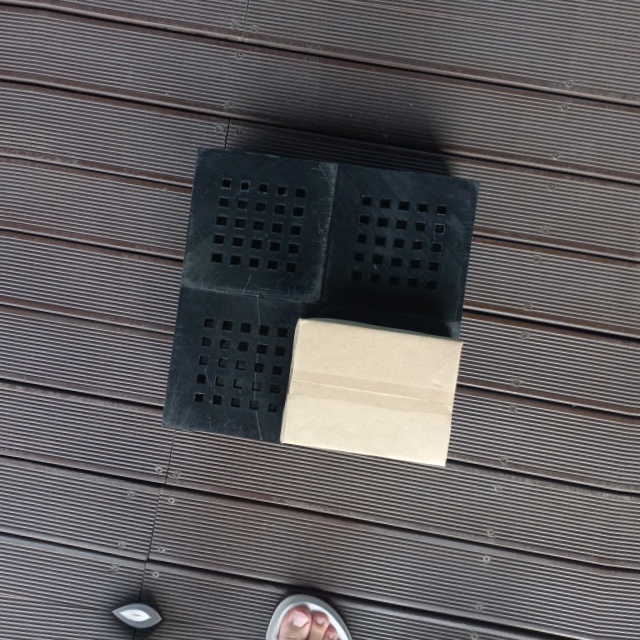box: (276, 314, 466, 471)
pallet: (157, 139, 488, 471)
